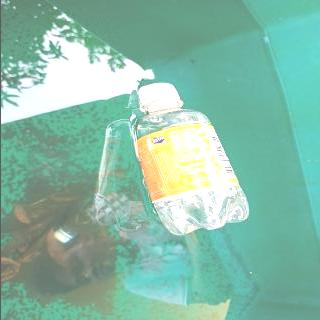bottle: (129, 81, 250, 237)
